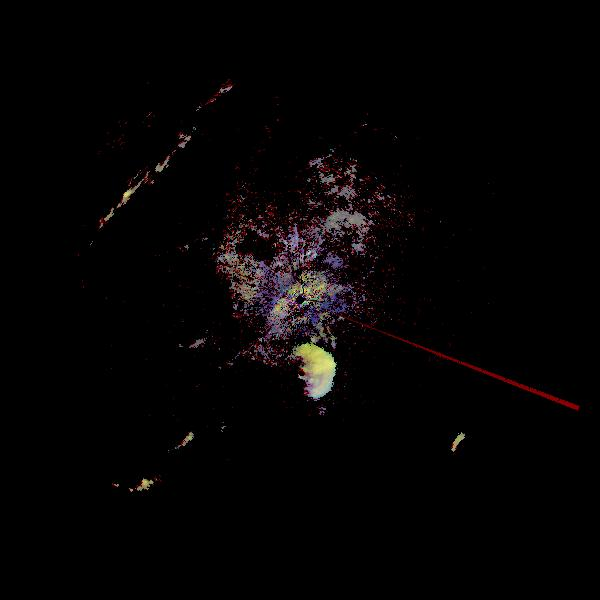roost: (269, 336, 347, 414), (447, 430, 489, 472)
